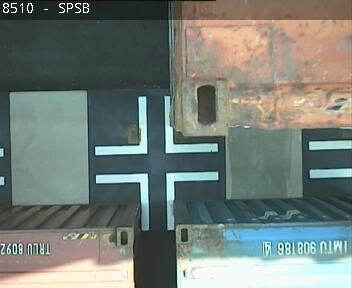groundmarker_1: (94, 96, 218, 156), (94, 173, 219, 231)
